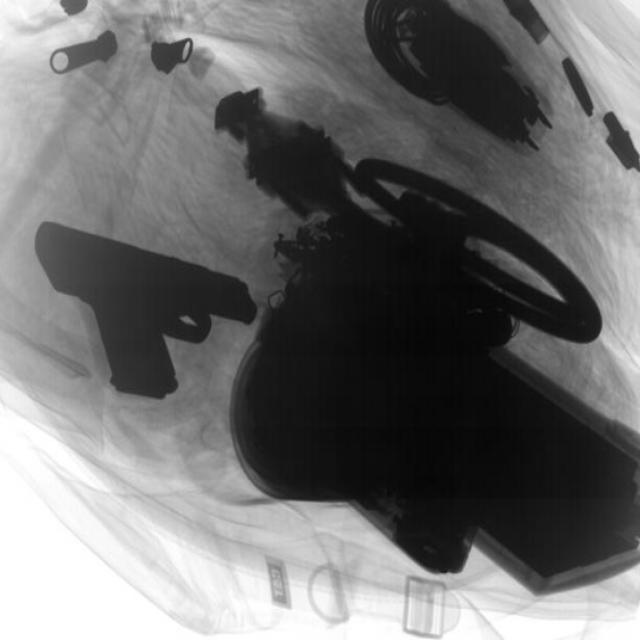GUN: (33, 215, 261, 400)
